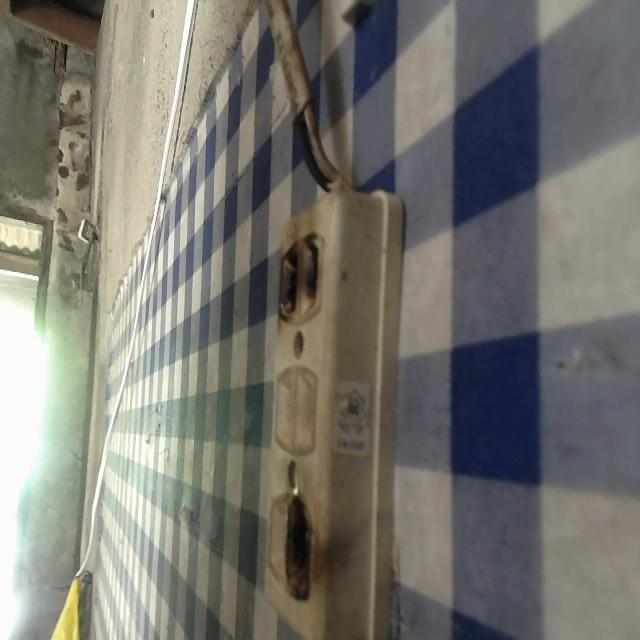-: (271, 225, 328, 323), (282, 483, 322, 600)
